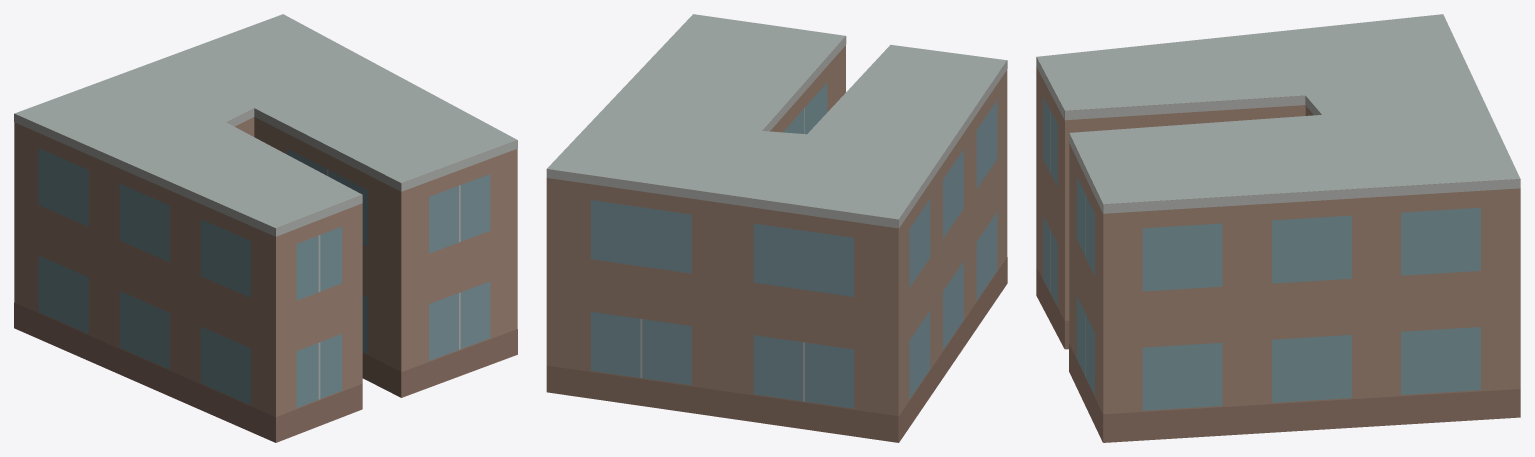
File: survey-upis-32763577.glb
3 renders of one model, left to right at view 1: azimuth 30°, elevation 25°; view 2: azimuth 150°, elevation 25°; view 3: azimuth 270°, elevation 25°, orthographic. The views are drawn at different scales.
Parts seen in each view (by area): view 1: survey-upis-32763577.tmp; view 2: survey-upis-32763577.tmp; view 3: survey-upis-32763577.tmp.
Part boxes in pixels (x1,y1,x2,y2): survey-upis-32763577.tmp: [14, 14, 517, 442]; survey-upis-32763577.tmp: [546, 14, 1007, 442]; survey-upis-32763577.tmp: [1036, 14, 1520, 442].
Size of the model in its own units: 10.44 by 6.1 by 11.23.
